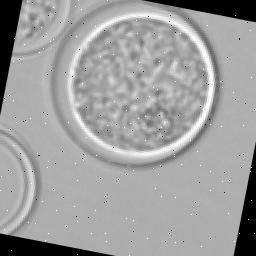picoshell: (51, 2, 218, 169), (0, 128, 40, 236), (12, 0, 70, 54)
